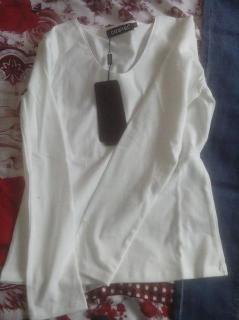long sleeve top: (0, 15, 229, 319)
